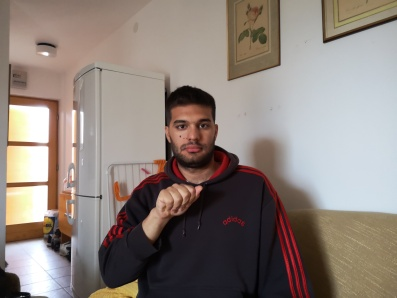A: (154, 181, 204, 217)
